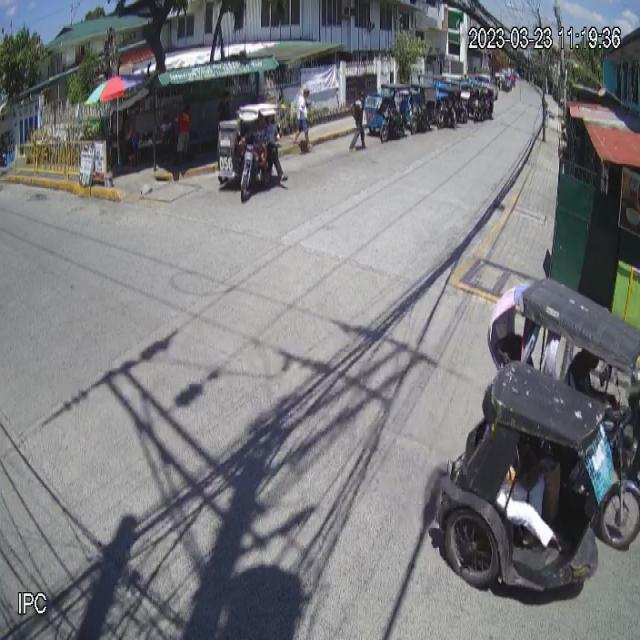Tricycle: (434, 273, 640, 603), (217, 101, 278, 206)
